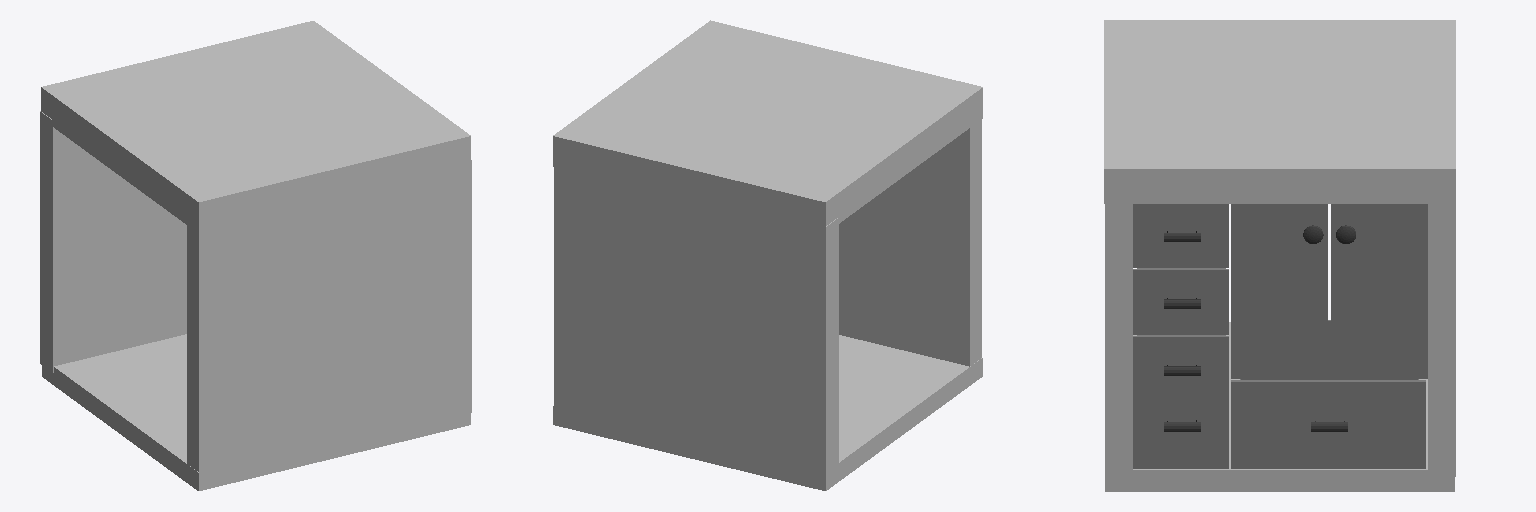
URDF robot description (my_urdf):
<?xml version='1.0' encoding='utf-8'?>
<robot name="my_urdf">
  <link name="base_link">
    <visual>
      <origin xyz="0 0 0" rpy="0.0 0.0 0.0" />
      <material name="white">
        <color rgba="0.8 0.8 0.8 1" />
      </material>
      <geometry>
        <mesh filename="../meshes/cabinet.obj" scale="1 1 1" />
      </geometry>
    </visual>
    <collision>
      <origin xyz="0 0 0" rpy="0.0 0.0 0.0" />
      <geometry>
        <mesh filename="../meshes/cabinet.obj" scale="1 1 1" />
      </geometry>
    </collision>
    <inertial>
      <mass value="1" />
      <inertia ixx="1e-4" ixy="0" ixz="0" iyy="1e-4" iyz="0" izz="1e-4" />
    </inertial>
  </link>
  
  <link name="drawer0">
    <visual>
      <origin xyz="0 0 0" rpy="0 0 0" />
            <material name="grey">
                <color rgba="0.55 0.55 0.55 1" />
            </material>
      <geometry>
        <mesh filename="../meshes/parts/drawer.obj" scale="1 1.3133333333333332 0.98" />
      </geometry>
    </visual>
    <collision>
      <origin xyz="0 0 0" rpy="0 0 0" />
      <geometry>
        <mesh filename="../meshes/parts/drawer.obj" scale="1 1.3133333333333332 0.98" />
      </geometry>
    </collision>
    <inertial>
      <mass value="0.2" />
      <inertia ixx="1e-4" ixy="0" ixz="0" iyy="1e-4" iyz="0" izz="1e-4" />
    </inertial>
  </link>
  
  <joint name="drawer0_to_base_link" type="prismatic">
    <axis xyz="1 0 0" />
    <limit effort="5" lower="0" upper="0.4" velocity="2.283" />
    <origin xyz="0 0.0 0.75" rpy="0.0 0.0 0.0" />
    <parent link="base_link" />
    <child link="drawer0" />
  </joint>
  
  <link name="drawer1">
    <visual>
      <origin xyz="0 0 0" rpy="0 0 0" />
            <material name="grey">
                <color rgba="0.55 0.55 0.55 1" />
            </material>
      <geometry>
        <mesh filename="../meshes/parts/drawer.obj" scale="1 1.3133333333333332 0.98" />
      </geometry>
    </visual>
    <collision>
      <origin xyz="0 0 0" rpy="0 0 0" />
      <geometry>
        <mesh filename="../meshes/parts/drawer.obj" scale="1 1.3133333333333332 0.98" />
      </geometry>
    </collision>
    <inertial>
      <mass value="0.2" />
      <inertia ixx="1e-4" ixy="0" ixz="0" iyy="1e-4" iyz="0" izz="1e-4" />
    </inertial>
  </link>
  
  <joint name="drawer1_to_base_link" type="prismatic">
    <axis xyz="1 0 0" />
    <limit effort="5" lower="0" upper="0.4" velocity="2.283" />
    <origin xyz="0 0.0 0.25" rpy="0.0 0.0 0.0" />
    <parent link="base_link" />
    <child link="drawer1" />
  </joint>
  
  <link name="drawer2">
    <visual>
      <origin xyz="0 0 0" rpy="0 0 0" />
            <material name="grey">
                <color rgba="0.55 0.55 0.55 1" />
            </material>
      <geometry>
        <mesh filename="../meshes/parts/drawer.obj" scale="1 1.3133333333333332 1.3133333333333332" />
      </geometry>
    </visual>
    <collision>
      <origin xyz="0 0 0" rpy="0 0 0" />
      <geometry>
        <mesh filename="../meshes/parts/drawer.obj" scale="1 1.3133333333333332 1.3133333333333332" />
      </geometry>
    </collision>
    <inertial>
      <mass value="0.2" />
      <inertia ixx="1e-4" ixy="0" ixz="0" iyy="1e-4" iyz="0" izz="1e-4" />
    </inertial>
  </link>
  
  <joint name="drawer2_to_base_link" type="prismatic">
    <axis xyz="1 0 0" />
    <limit effort="5" lower="0" upper="0.4" velocity="2.283" />
    <origin xyz="0 0.0 0.0" rpy="0.0 0.0 0.0" />
    <parent link="base_link" />
    <child link="drawer2" />
  </joint>
  
  <link name="drawer3">
    <visual>
      <origin xyz="0 0 0" rpy="0 0 0" />
            <material name="grey">
                <color rgba="0.55 0.55 0.55 1" />
            </material>
      <geometry>
        <mesh filename="../meshes/parts/drawer.obj" scale="1 1.3133333333333332 0.98" />
      </geometry>
    </visual>
    <collision>
      <origin xyz="0 0 0" rpy="0 0 0" />
      <geometry>
        <mesh filename="../meshes/parts/drawer.obj" scale="1 1.3133333333333332 0.98" />
      </geometry>
    </collision>
    <inertial>
      <mass value="0.2" />
      <inertia ixx="1e-4" ixy="0" ixz="0" iyy="1e-4" iyz="0" izz="1e-4" />
    </inertial>
  </link>
  
  <joint name="drawer3_to_base_link" type="prismatic">
    <axis xyz="1 0 0" />
    <limit effort="5" lower="0" upper="0.4" velocity="2.283" />
    <origin xyz="0 0.0 0.5" rpy="0.0 0.0 0.0" />
    <parent link="base_link" />
    <child link="drawer3" />
  </joint>
  
  <link name="drawer4">
    <visual>
      <origin xyz="0 0 0" rpy="0 0 0" />
            <material name="grey">
                <color rgba="0.55 0.55 0.55 1" />
            </material>
      <geometry>
        <mesh filename="../meshes/parts/drawer.obj" scale="1 2.6466666666666665 1.3133333333333332" />
      </geometry>
    </visual>
    <collision>
      <origin xyz="0 0 0" rpy="0 0 0" />
      <geometry>
        <mesh filename="../meshes/parts/drawer.obj" scale="1 2.6466666666666665 1.3133333333333332" />
      </geometry>
    </collision>
    <inertial>
      <mass value="0.2" />
      <inertia ixx="1e-4" ixy="0" ixz="0" iyy="1e-4" iyz="0" izz="1e-4" />
    </inertial>
  </link>
  
  <joint name="drawer4_to_base_link" type="prismatic">
    <axis xyz="1 0 0" />
    <limit effort="5" lower="0" upper="0.4" velocity="2.283" />
    <origin xyz="0 0.3333333333333333 0.0" rpy="0.0 0.0 0.0" />
    <parent link="base_link" />
    <child link="drawer4" />
  </joint>
  
  <link name="doorL5">
    <visual>
      <origin xyz="0 0 0" rpy="0 0 0" />
            <material name="grey">
                <color rgba="0.55 0.55 0.55 1" />
            </material>
      <geometry>
        <mesh filename="../meshes/parts/doorL.obj" scale="1 1.3233333333333333 2.6566666666666667" />
      </geometry>
    </visual>
    <collision>
      <origin xyz="0 0 0" rpy="0 0 0" />
      <geometry>
        <mesh filename="../meshes/parts/doorL.obj" scale="1 1.3233333333333333 2.6566666666666667" />
      </geometry>
    </collision>
    <inertial>
      <mass value="0.2" />
      <inertia ixx="1e-4" ixy="0" ixz="0" iyy="1e-4" iyz="0" izz="1e-4" />
    </inertial>
  </link>
  
  <joint name="doorL5_to_base_link" type="revolute">
    <axis xyz="0 0 1" />
    <limit effort="5" lower="-1.57" upper="0" velocity="2.283" />
    <origin xyz="0 0.3333333333333333 0.3333333333333333" rpy="0.0 0.0 0.0" />
    <parent link="base_link" />
    <child link="doorL5" />
  </joint>
  
  <link name="doorR6">
    <visual>
      <origin xyz="0 0 0" rpy="0 0 0" />
            <material name="grey">
                <color rgba="0.55 0.55 0.55 1" />
            </material>
      <geometry>
        <mesh filename="../meshes/parts/doorR.obj" scale="1 1.3233333333333333 2.6566666666666667" />
      </geometry>
    </visual>
    <collision>
      <origin xyz="0 0 0" rpy="0 0 0" />
      <geometry>
        <mesh filename="../meshes/parts/doorR.obj" scale="1 1.3233333333333333 2.6566666666666667" />
      </geometry>
    </collision>
    <inertial>
      <mass value="0.2" />
      <inertia ixx="1e-4" ixy="0" ixz="0" iyy="1e-4" iyz="0" izz="1e-4" />
    </inertial>
  </link>
  
  <joint name="doorR6_to_base_link" type="revolute">
    <axis xyz="0 0 1" />
    <limit effort="5" lower="0" upper="1.57" velocity="2.283" />
    <origin xyz="0 1.0 0.3333333333333333" rpy="-0.0 -0.0 -0.0" />
    <parent link="base_link" />
    <child link="doorR6" />
  </joint>
  
  <link name="handle7">
    <visual>
      <origin xyz="0 0 0" rpy="0 0 0" />
            <material name="dark grey"><color rgba="0.3 0.3 0.3 1"/></material>

      <geometry>
        <mesh filename="../meshes/parts/handle.obj" scale="1 1 1" />
      </geometry>
    </visual>
    <collision>
      <origin xyz="0.06 0 0" rpy="0 0 0" />
      <geometry>
        <mesh filename="../meshes/parts/handle.obj" scale="1 1 1" />
      </geometry>
    </collision>
    <inertial>
      <mass value="0.2" />
      <inertia ixx="1e-4" ixy="0" ixz="0" iyy="1e-4" iyz="0" izz="1e-4" />
    </inertial>
  </link>
  
  <joint name="handle7_to_drawer0" type="fixed">
    <axis xyz="0 0 1" />
    <limit effort="5" lower="0" upper="1.57" velocity="2.283" />
    <origin xyz="0 0.16666666666666666 0.125" rpy="1.5707963267948963 0.0 0.0" />
    <parent link="drawer0" />
    <child link="handle7" />
  </joint>
  
  <link name="handle8">
    <visual>
      <origin xyz="0 0 0" rpy="0 0 0" />
            <material name="dark grey"><color rgba="0.3 0.3 0.3 1"/></material>

      <geometry>
        <mesh filename="../meshes/parts/handle.obj" scale="1 1 1" />
      </geometry>
    </visual>
    <collision>
      <origin xyz="0.06 0 0" rpy="0 0 0" />
      <geometry>
        <mesh filename="../meshes/parts/handle.obj" scale="1 1 1" />
      </geometry>
    </collision>
    <inertial>
      <mass value="0.2" />
      <inertia ixx="1e-4" ixy="0" ixz="0" iyy="1e-4" iyz="0" izz="1e-4" />
    </inertial>
  </link>
  
  <joint name="handle8_to_drawer1" type="fixed">
    <axis xyz="0 0 1" />
    <limit effort="5" lower="0" upper="1.57" velocity="2.283" />
    <origin xyz="0 0.16666666666666666 0.125" rpy="1.5707963267948963 0.0 0.0" />
    <parent link="drawer1" />
    <child link="handle8" />
  </joint>
  
  <link name="handle9">
    <visual>
      <origin xyz="0 0 0" rpy="0 0 0" />
            <material name="dark grey"><color rgba="0.3 0.3 0.3 1"/></material>

      <geometry>
        <mesh filename="../meshes/parts/handle.obj" scale="1 1 1" />
      </geometry>
    </visual>
    <collision>
      <origin xyz="0.06 0 0" rpy="0 0 0" />
      <geometry>
        <mesh filename="../meshes/parts/handle.obj" scale="1 1 1" />
      </geometry>
    </collision>
    <inertial>
      <mass value="0.2" />
      <inertia ixx="1e-4" ixy="0" ixz="0" iyy="1e-4" iyz="0" izz="1e-4" />
    </inertial>
  </link>
  
  <joint name="handle9_to_drawer2" type="fixed">
    <axis xyz="0 0 1" />
    <limit effort="5" lower="0" upper="1.57" velocity="2.283" />
    <origin xyz="0 0.16666666666666666 0.16666666666666666" rpy="1.5707963267948963 0.0 0.0" />
    <parent link="drawer2" />
    <child link="handle9" />
  </joint>
  
  <link name="handle10">
    <visual>
      <origin xyz="0 0 0" rpy="0 0 0" />
            <material name="dark grey"><color rgba="0.3 0.3 0.3 1"/></material>

      <geometry>
        <mesh filename="../meshes/parts/handle.obj" scale="1 1 1" />
      </geometry>
    </visual>
    <collision>
      <origin xyz="0.06 0 0" rpy="0 0 0" />
      <geometry>
        <mesh filename="../meshes/parts/handle.obj" scale="1 1 1" />
      </geometry>
    </collision>
    <inertial>
      <mass value="0.2" />
      <inertia ixx="1e-4" ixy="0" ixz="0" iyy="1e-4" iyz="0" izz="1e-4" />
    </inertial>
  </link>
  
  <joint name="handle10_to_drawer3" type="fixed">
    <axis xyz="0 0 1" />
    <limit effort="5" lower="0" upper="1.57" velocity="2.283" />
    <origin xyz="0 0.16666666666666666 0.125" rpy="1.5707963267948963 0.0 0.0" />
    <parent link="drawer3" />
    <child link="handle10" />
  </joint>
  
  <link name="handle11">
    <visual>
      <origin xyz="0 0 0" rpy="0 0 0" />
            <material name="dark grey"><color rgba="0.3 0.3 0.3 1"/></material>

      <geometry>
        <mesh filename="../meshes/parts/handle.obj" scale="1 1 1" />
      </geometry>
    </visual>
    <collision>
      <origin xyz="0.06 0 0" rpy="0 0 0" />
      <geometry>
        <mesh filename="../meshes/parts/handle.obj" scale="1 1 1" />
      </geometry>
    </collision>
    <inertial>
      <mass value="0.2" />
      <inertia ixx="1e-4" ixy="0" ixz="0" iyy="1e-4" iyz="0" izz="1e-4" />
    </inertial>
  </link>
  
  <joint name="handle11_to_drawer4" type="fixed">
    <axis xyz="0 0 1" />
    <limit effort="5" lower="0" upper="1.57" velocity="2.283" />
    <origin xyz="0 0.3333333333333333 0.16666666666666666" rpy="1.5707963267948963 0.0 0.0" />
    <parent link="drawer4" />
    <child link="handle11" />
  </joint>
  
  <link name="knob12">
    <visual>
      <origin xyz="0 0 0" rpy="0 0 0" />
            <material name="dark grey"><color rgba="0.3 0.3 0.3 1"/></material>

      <geometry>
        <mesh filename="../meshes/parts/knob.obj" scale="1 1 1" />
      </geometry>
    </visual>
    <collision>
      <origin xyz="0.06 0 0" rpy="0 0 0" />
      <geometry>
        <mesh filename="../meshes/parts/knob.obj" scale="1 1 1" />
      </geometry>
    </collision>
    <inertial>
      <mass value="0.2" />
      <inertia ixx="1e-4" ixy="0" ixz="0" iyy="1e-4" iyz="0" izz="1e-4" />
    </inertial>
  </link>
  
  <joint name="knob12_to_doorL5" type="fixed">
    <axis xyz="1 0 0" />
    <limit effort="5" lower="0" upper="1.57" velocity="2.283" />
    <origin xyz="0 0.2777777777777778 0.5555555555555556" rpy="0.0 0.0 0.0" />
    <parent link="doorL5" />
    <child link="knob12" />
  </joint>
  
  <link name="knob13">
    <visual>
      <origin xyz="0 0 0" rpy="0 0 0" />
            <material name="dark grey"><color rgba="0.3 0.3 0.3 1"/></material>

      <geometry>
        <mesh filename="../meshes/parts/knob.obj" scale="1 1 1" />
      </geometry>
    </visual>
    <collision>
      <origin xyz="0.06 0 0" rpy="0 0 0" />
      <geometry>
        <mesh filename="../meshes/parts/knob.obj" scale="1 1 1" />
      </geometry>
    </collision>
    <inertial>
      <mass value="0.2" />
      <inertia ixx="1e-4" ixy="0" ixz="0" iyy="1e-4" iyz="0" izz="1e-4" />
    </inertial>
  </link>
  
  <joint name="knob13_to_doorR6" type="fixed">
    <axis xyz="1 0 0" />
    <limit effort="5" lower="0" upper="1.57" velocity="2.283" />
    <origin xyz="0 -0.2777777777777778 0.5555555555555556" rpy="0.0 0.0 0.0" />
    <parent link="doorR6" />
    <child link="knob13" />
  </joint>
</robot>

--- Render facts (derived) ---
3 views of the same robot in one strip: view 1: azimuth 30°, elevation 25°; view 2: azimuth 150°, elevation 25°; view 3: azimuth 270°, elevation 25° (orthographic).
Model my_urdf with 15 links and 14 joints (2 revolute, 5 prismatic, 7 fixed), rooted at base_link, posed all joints at 0.
Visible links, largest first — view 1: base_link; view 2: base_link; view 3: base_link, drawer4, doorL5, doorR6, drawer2, drawer3, drawer0, drawer1.
Link boxes in pixels (x1,y1,x2,y2): base_link: (40,21,471,490); base_link: (553,20,982,490); base_link: (1104,20,1455,491); drawer4: (1231,320,1425,468); doorL5: (1231,204,1327,378); doorR6: (1331,204,1427,378); drawer2: (1133,382,1228,468); drawer3: (1133,268,1228,334); drawer0: (1133,204,1228,267); drawer1: (1133,335,1228,401).
Bounding box of the posed robot: 1.23 × 1.19 × 1.21 m (x, y, z).
15 mesh visuals loaded from 6 distinct referenced files (6 OBJ).